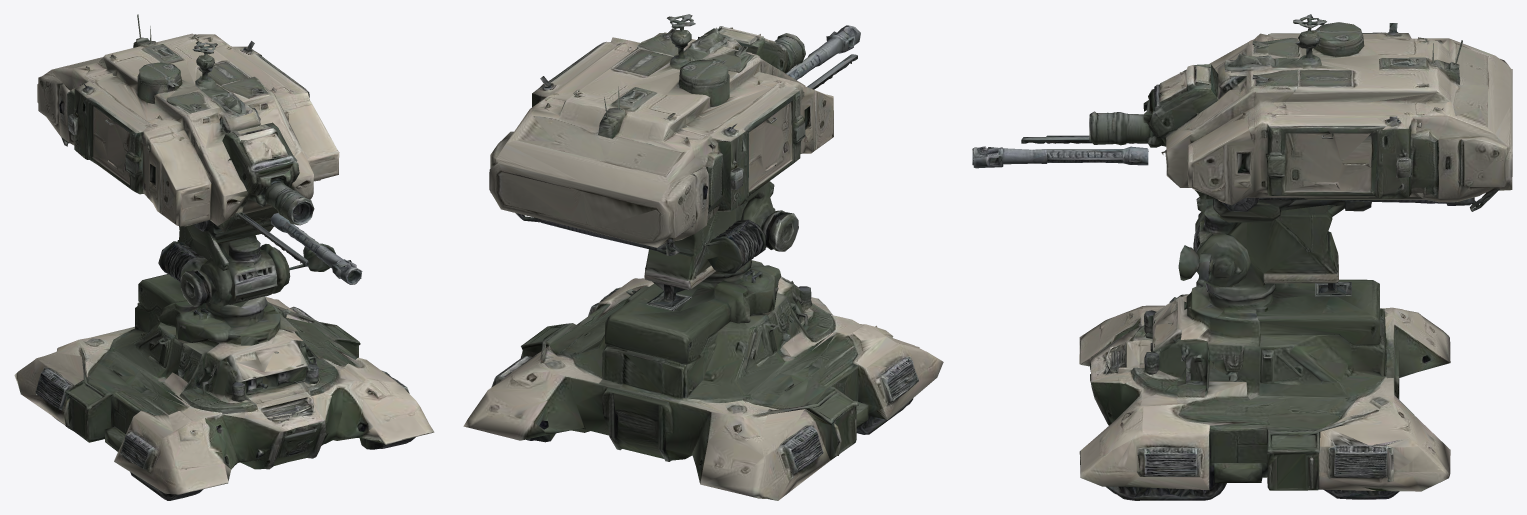
File: t243_tur_lod0.glb
3 renders of one model, left to right at view 1: azimuth 30°, elevation 25°; view 2: azimuth 150°, elevation 25°; view 3: azimuth 270°, elevation 25°, orthographic. The views are drawn at different scales.
Bounding box in the file's own units: 2.44 × 3.05 × 3.6.
1 material, 1 textured.
